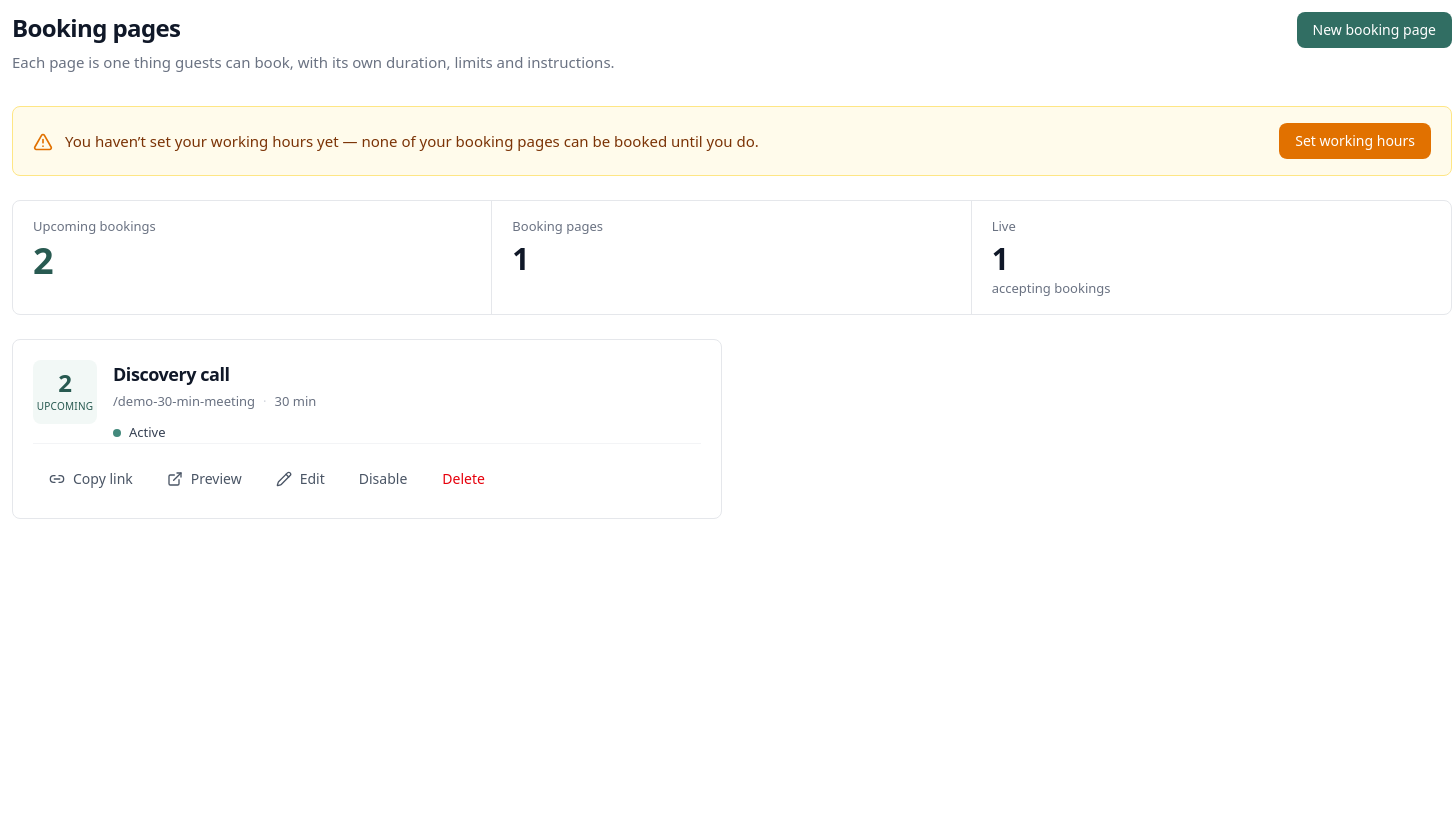
Test case: DashboardHomePage — the booking pages could not be loaded › reports a refused enable/disable rather than looking like a dead button
Step 1. Click the button "Disable" → (383, 479), box [343,461,423,497]
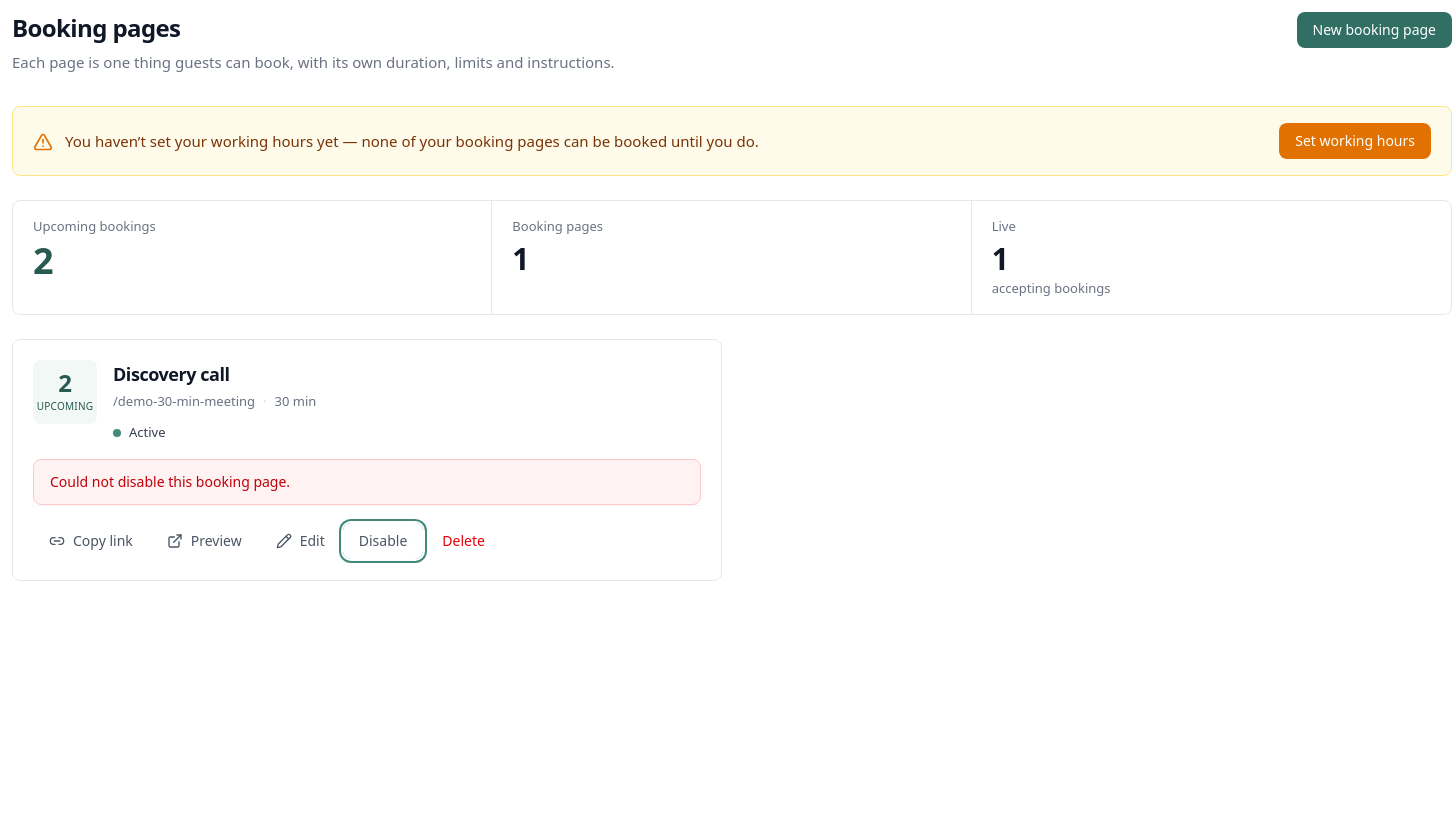
Check: the message shows "Could not disable", box [50,472,290,491]
